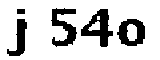4: (80, 6, 114, 51)
5: (44, 5, 79, 50)
j: (3, 6, 31, 60)
o: (117, 19, 149, 49)
